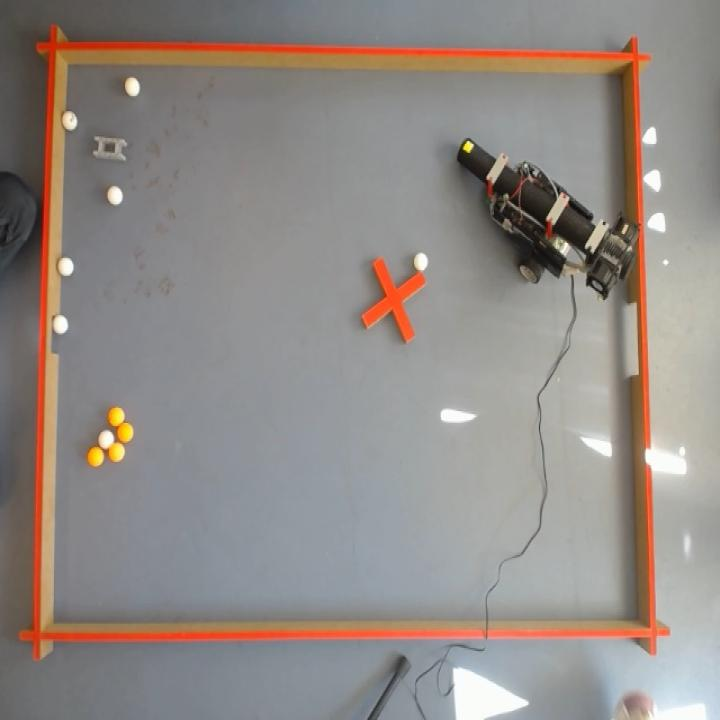orange: (108, 407, 125, 427), (88, 447, 104, 467), (117, 424, 134, 442), (109, 442, 124, 462)
robot: (458, 138, 640, 302)
robot-front: (460, 139, 476, 156)
white: (103, 184, 125, 209), (122, 75, 142, 102), (56, 255, 77, 279), (61, 109, 80, 135), (52, 313, 70, 337), (412, 250, 430, 274), (98, 430, 114, 449)
